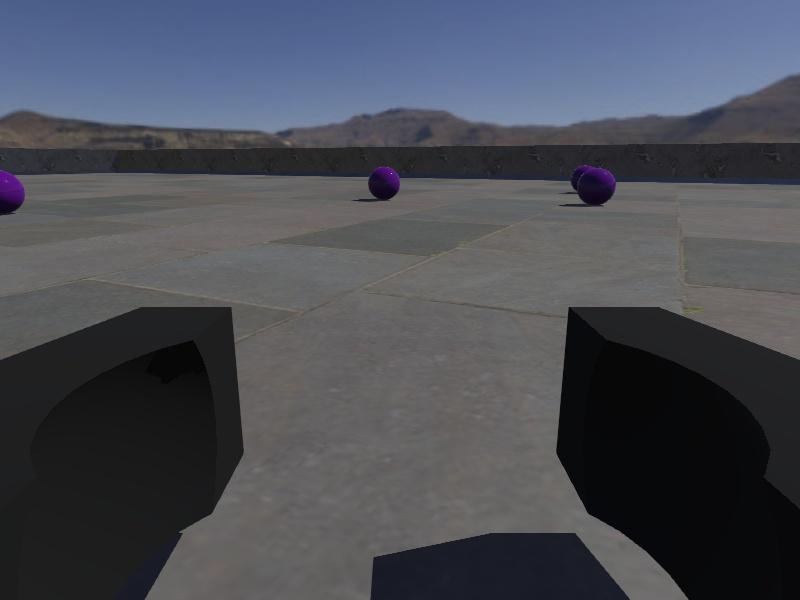violet ball: (575, 167, 616, 206), (369, 168, 401, 201)
